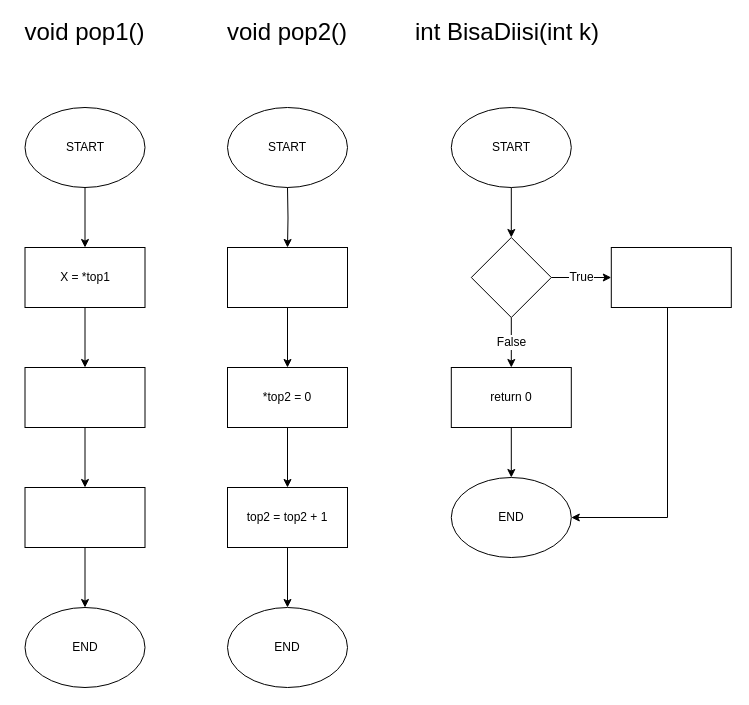
Image size: 749x705. Some labels were removed from this diagram. The centre of each missing label's shape, as x and y in pixels:
*top1 = 0: (84,397)
return 1: (670,277)
top1 = top1 - 1: (84,517)
top2 - top1 > k: (510,277)
Y = *top2: (287,277)
